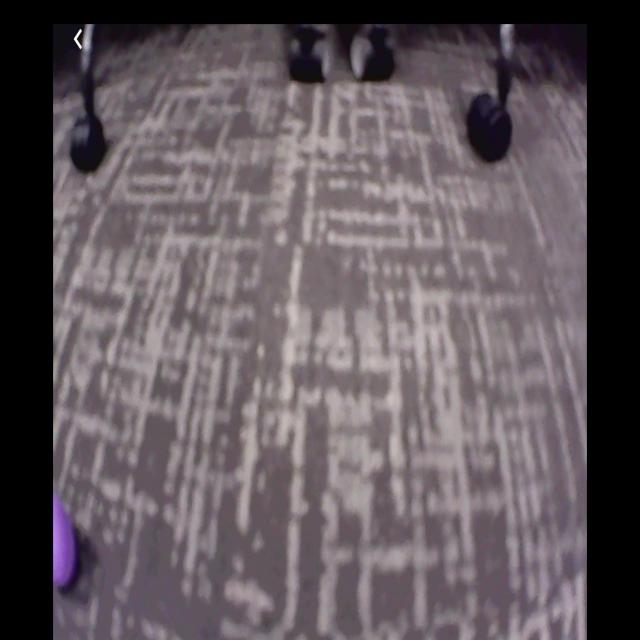ball: (54, 496, 79, 591)
